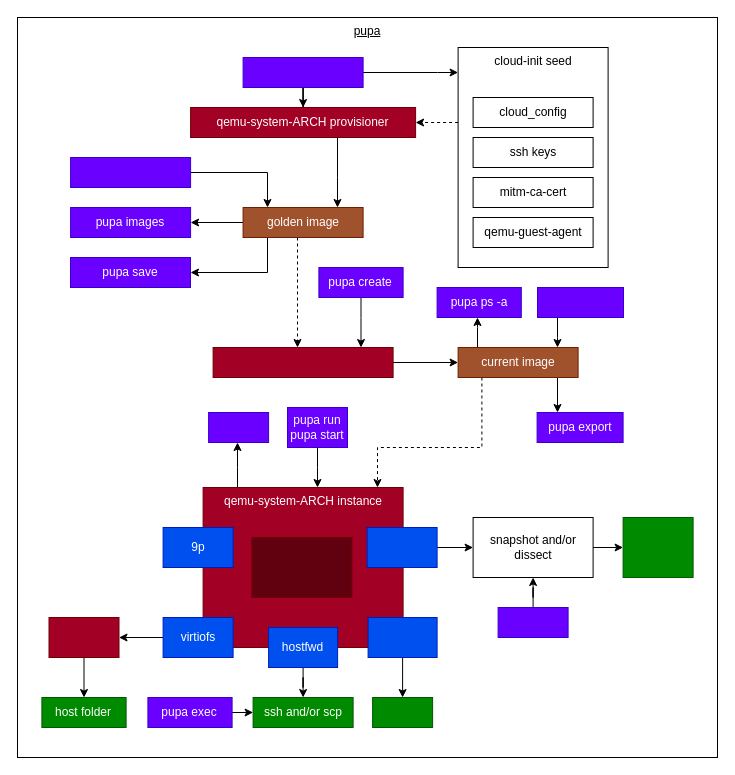
This 735x775 diagram has some shape labels left out. Here are the shapes that lost their labels. From the top down, the box of each, then its label:
(242, 56, 363, 88): pupa build
(70, 156, 191, 188): pupa load
(536, 286, 624, 318): pupa import
(212, 346, 393, 378): qemu-img golden to current
(208, 412, 269, 442): pupa ps
(251, 536, 352, 598): docker podman k8s
(366, 526, 437, 568): qmp
(622, 516, 693, 578): output
(48, 616, 119, 658): virtiofsd
(367, 616, 437, 658): raw device
(497, 606, 568, 638): pupa cp
(372, 696, 433, 728): tar
